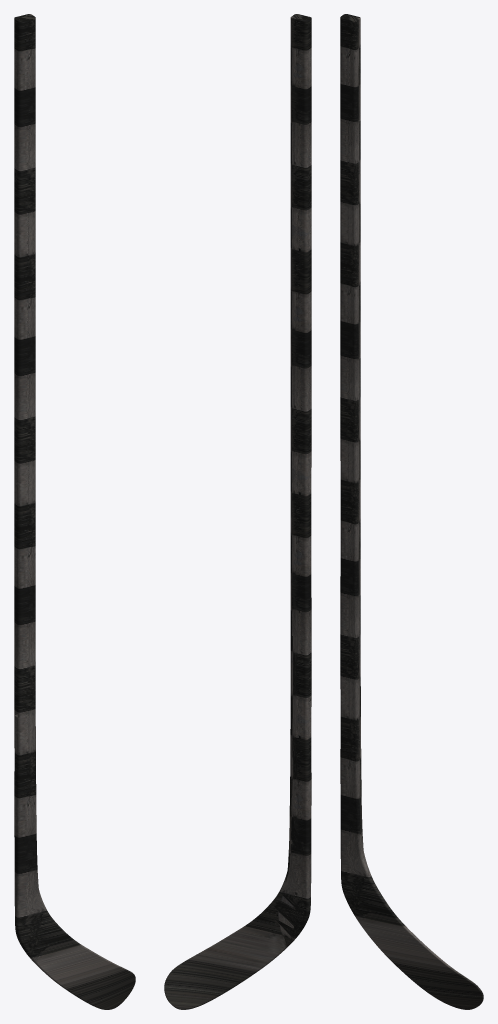
3 renders of one model, left to right at view 1: azimuth 30°, elevation 25°; view 2: azimuth 150°, elevation 25°; view 3: azimuth 330°, elevation 25°, orthographic. The views are drawn at different scales.
Visible parts, largest first — view 1: geometry_0; view 2: geometry_0; view 3: geometry_0.
Boxes of the visible parts, left/top/right/bottom form: geometry_0: left=14, top=14, right=135, bottom=1009; geometry_0: left=164, top=14, right=311, bottom=1009; geometry_0: left=340, top=14, right=483, bottom=1009.
Bounding box in the file's own units: 225 × 1650 × 60.69.
Materials: 1 (1 with a texture image).
